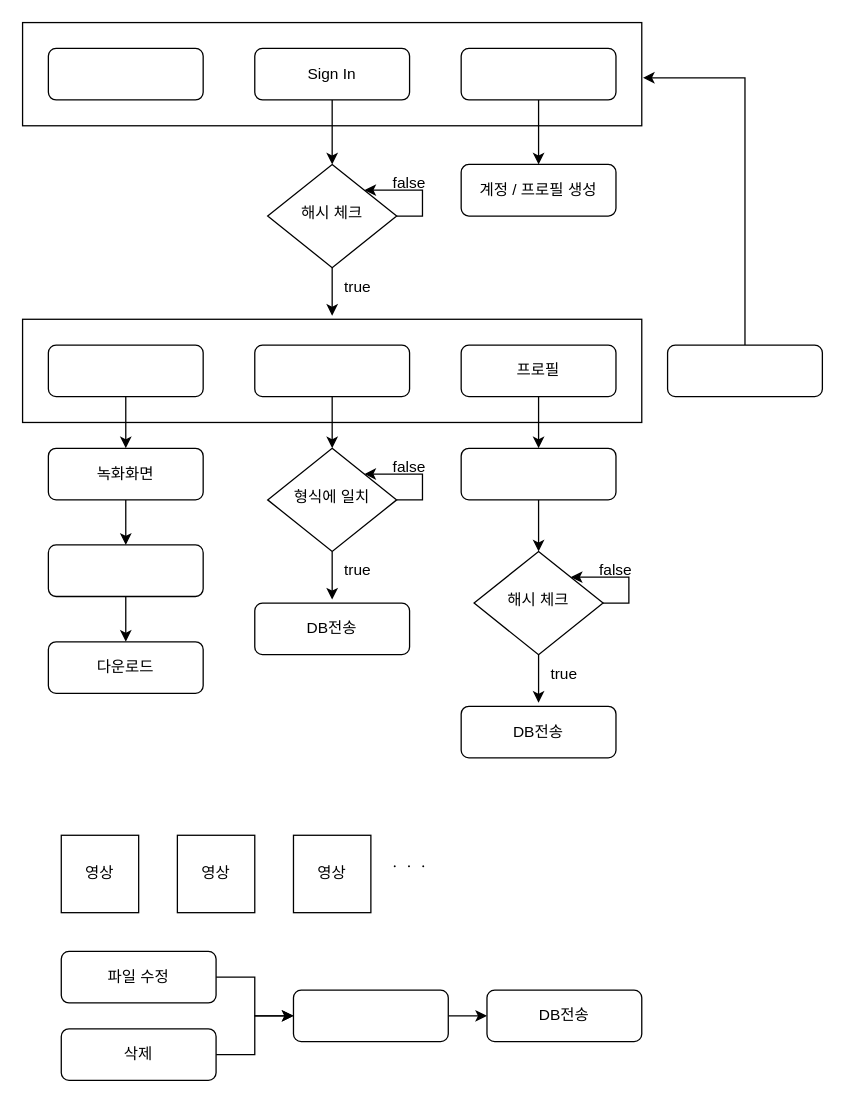
Image size: 845x1103. Some labels were removed from this diagram. The centre of each missing label's shape, as x and y in pixels:
"ID체크" belongs at point 370,1015.
"Sign Out" belongs at point 744,370.
"Sign Up" belongs at point 538,73.
"소개 페이지" belongs at point 125,73.
"수정" belongs at point 538,473.
"제작하기" belongs at point 125,370.
"카운터" belongs at point 125,570.
"파일 업로드" belongs at point 331,370.
